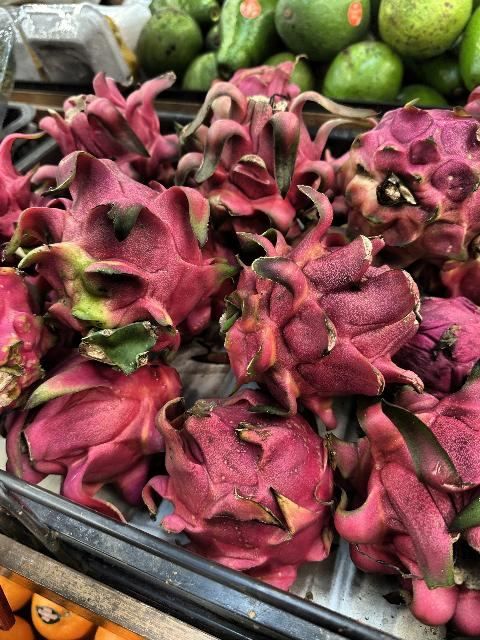buah-naga-belum-matang: (32, 153, 228, 361), (342, 90, 480, 264)
buah-naga-matang: (231, 195, 419, 405), (165, 377, 331, 591), (340, 380, 480, 630), (6, 348, 180, 510), (184, 72, 328, 226), (37, 64, 175, 170), (0, 257, 58, 401), (1, 123, 54, 257), (404, 290, 480, 382)
